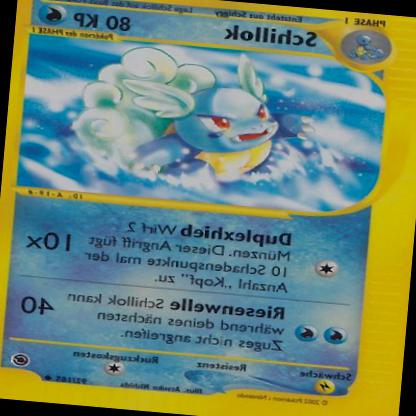Wartortle: (74, 41, 301, 196)
